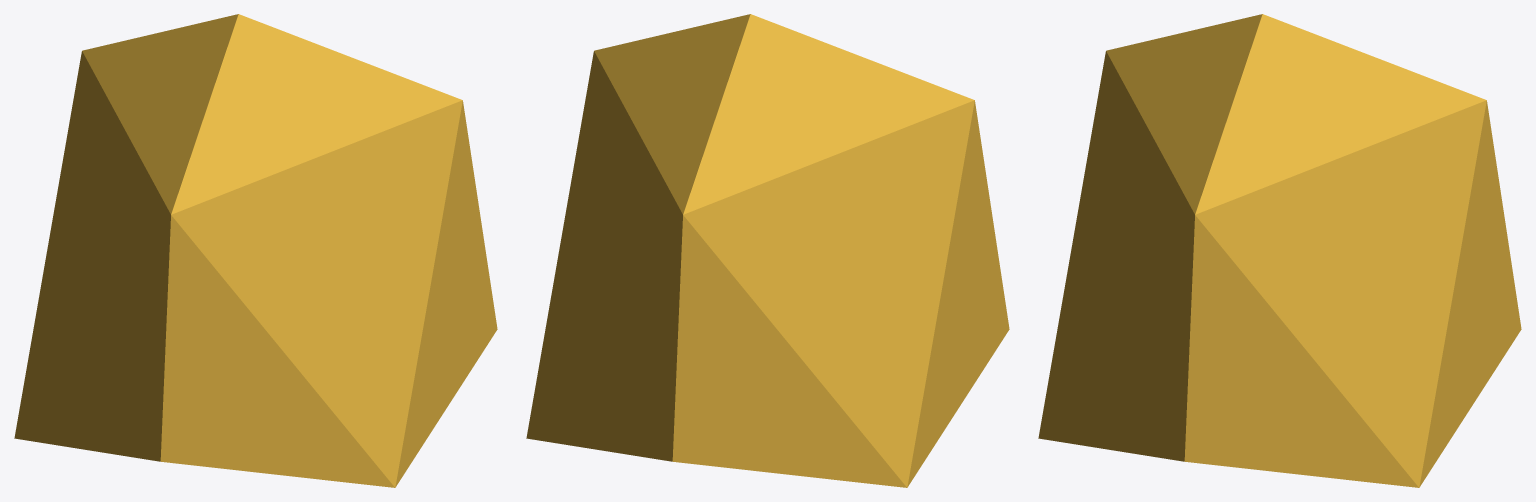
The model's file is Meteorite(Pickup).fbx.
3 views of the same model, side by side, from view 1: azimuth 30°, elevation 25°; view 2: azimuth 150°, elevation 25°; view 3: azimuth 270°, elevation 25° (orthographic).
Visible parts, largest first — view 1: Meteorite; view 2: Meteorite; view 3: Meteorite.
Boxes of the visible parts, left/top/right/bottom form: Meteorite: left=14, top=14, right=497, bottom=487; Meteorite: left=526, top=14, right=1009, bottom=487; Meteorite: left=1038, top=14, right=1521, bottom=487.
Size of the model in its own units: 42.04 by 39.43 by 42.87.
